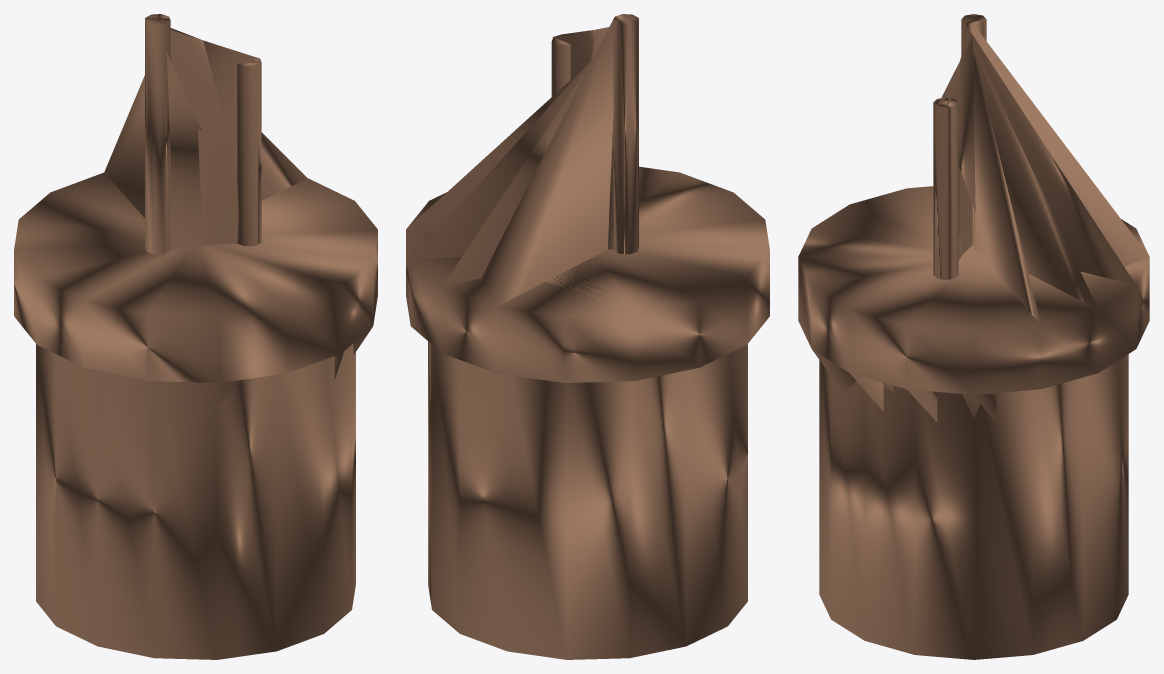
The model's file is flower_pot.obj.
3 renders of one model, left to right at view 1: azimuth 30°, elevation 25°; view 2: azimuth 150°, elevation 25°; view 3: azimuth 270°, elevation 25°, orthographic. The views are drawn at different scales.
Bounding box in the file's own units: 1 × 1.75 × 1.
